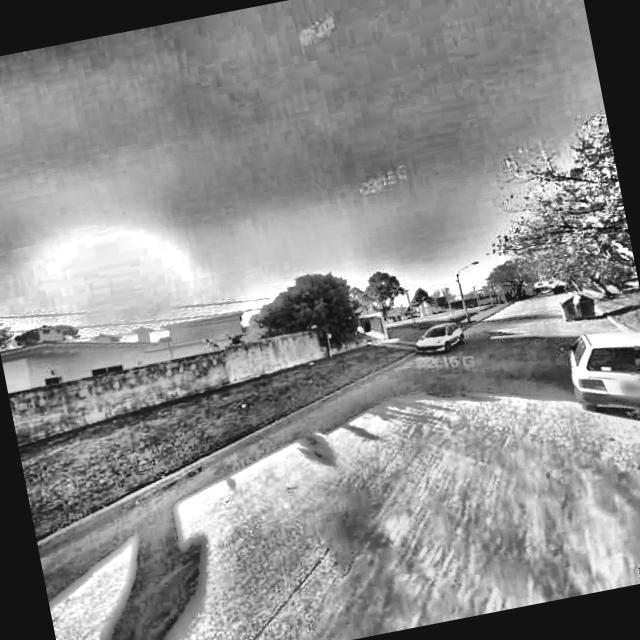Dustbin: (553, 282, 608, 331)
